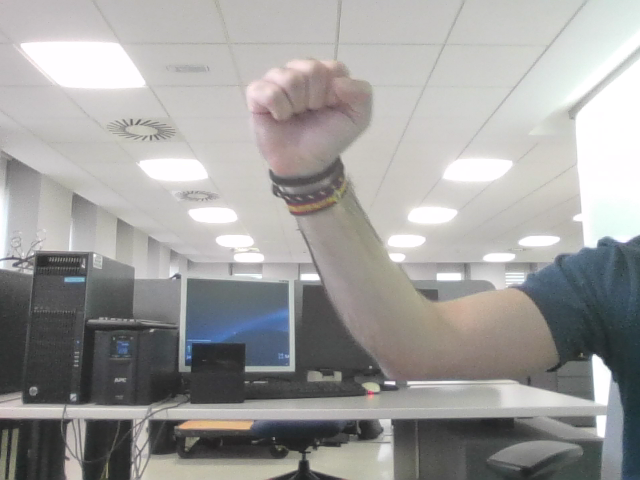Puño: (259, 70, 355, 146)
